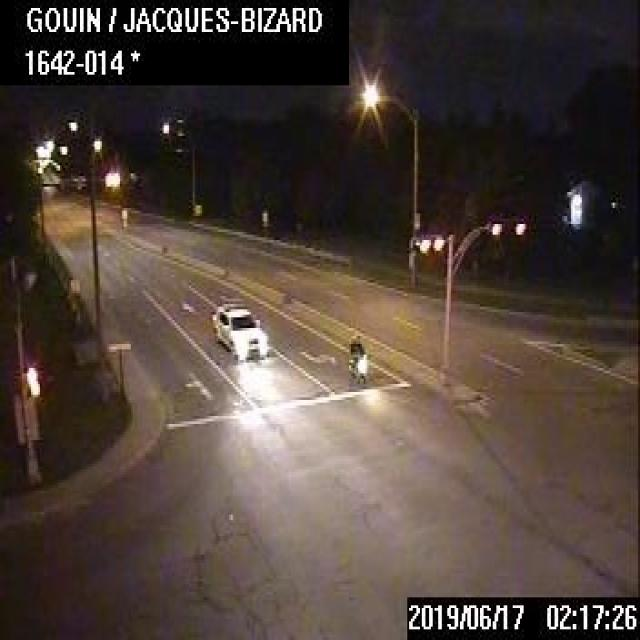cyclist: (347, 332, 365, 382)
vehicle: (210, 301, 267, 357)
